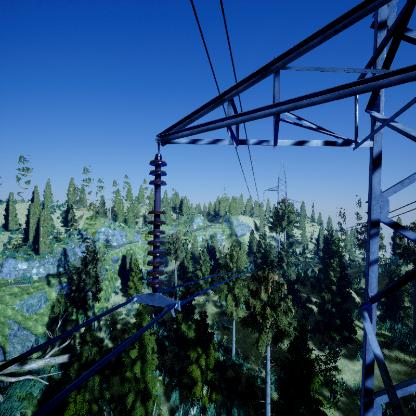insulator: (146, 159, 171, 291)
